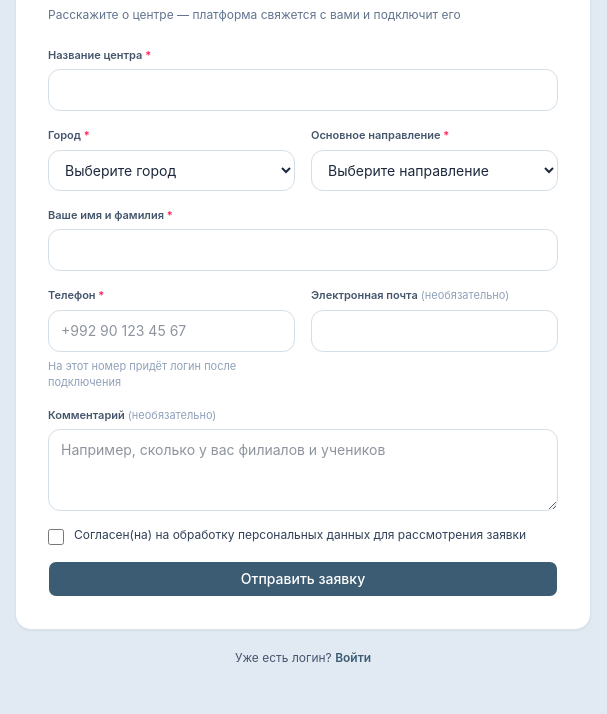
Test: заявка центра на подключение (PLT-CTR-070) › пустая форма — ошибки под полями, фокус на первом
(page scrolled)
Click the button "Отправить заявку": (303, 579) [48, 561, 558, 597]
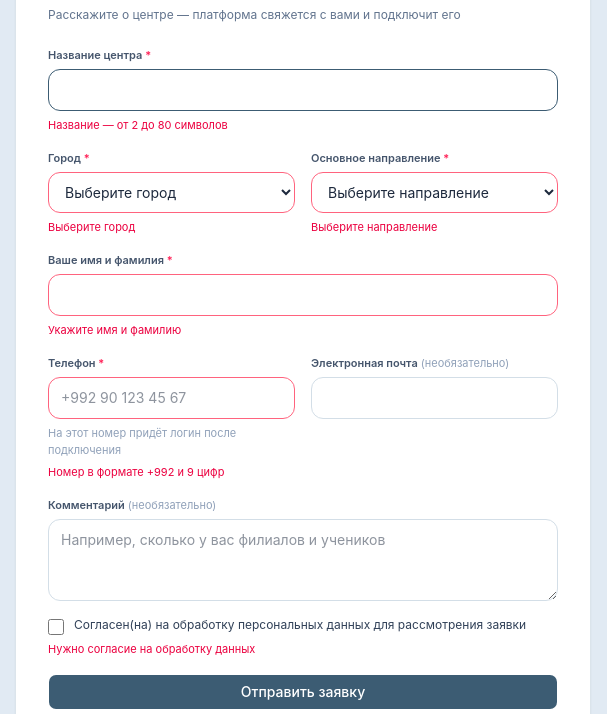
Expected: the text "Название — от 2 до 80 символов" is shown, [48, 118, 228, 132]
Expected: the text "Выберите город" is shown, [48, 220, 135, 234]
Expected: the text "Выберите направление" is shown, [311, 220, 437, 234]
